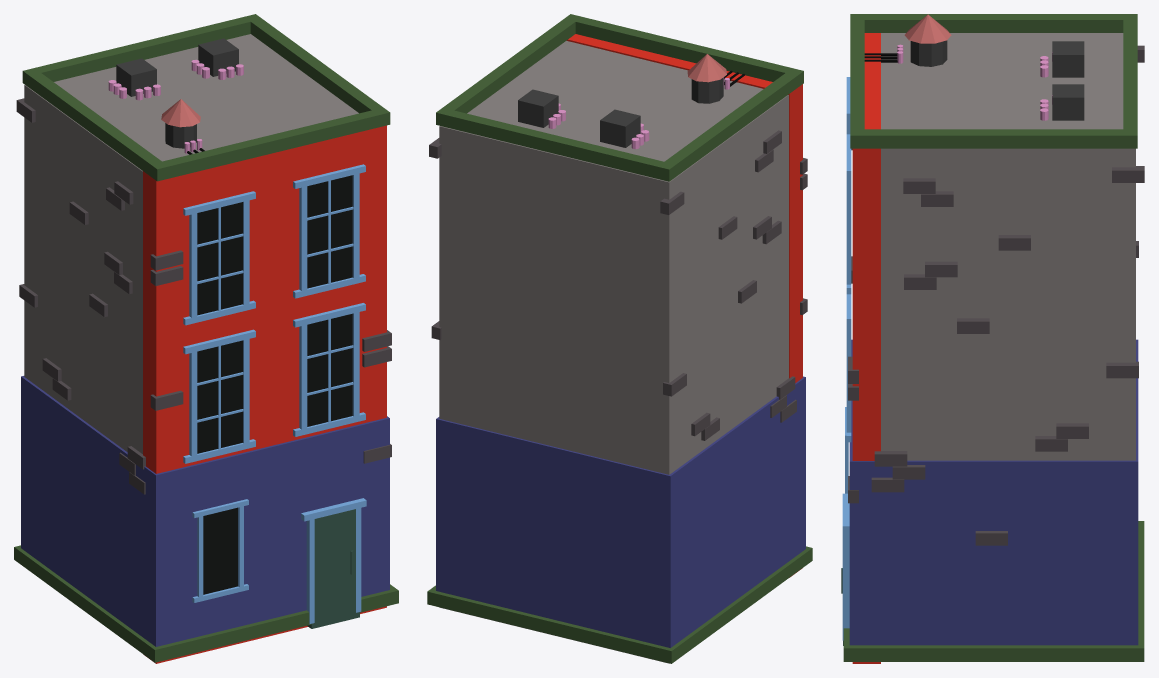
The model's file is house.fbx.
3 views of the same model, side by side, from view 1: azimuth 30°, elevation 25°; view 2: azimuth 150°, elevation 25°; view 3: azimuth 270°, elevation 25° (orthographic). The views are drawn at different scales.
Visible parts, largest first — view 1: House1; view 2: House1; view 3: House1.
Boxes of the visible parts, bbox=[...] form: House1: bbox=[14, 14, 398, 663]; House1: bbox=[427, 14, 812, 663]; House1: bbox=[841, 14, 1144, 663].
Bounding box in the file's own units: 2112 × 4341 × 2127.
